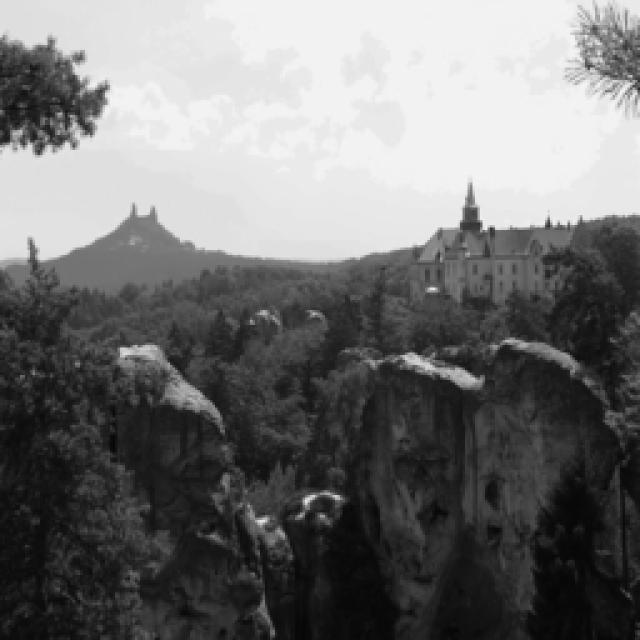Abbey: (407, 191, 631, 320)
